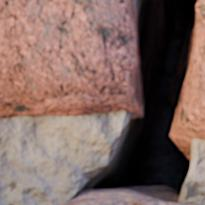brick: (61, 196, 185, 204)
broken_brick: (0, 0, 128, 84), (0, 86, 136, 119), (177, 82, 204, 141), (197, 0, 204, 71)
crack: (0, 0, 204, 203)
